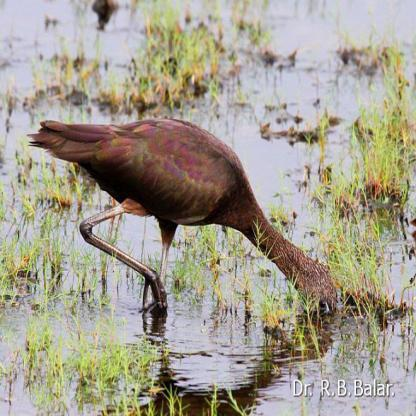Burung: (26, 113, 347, 327)
